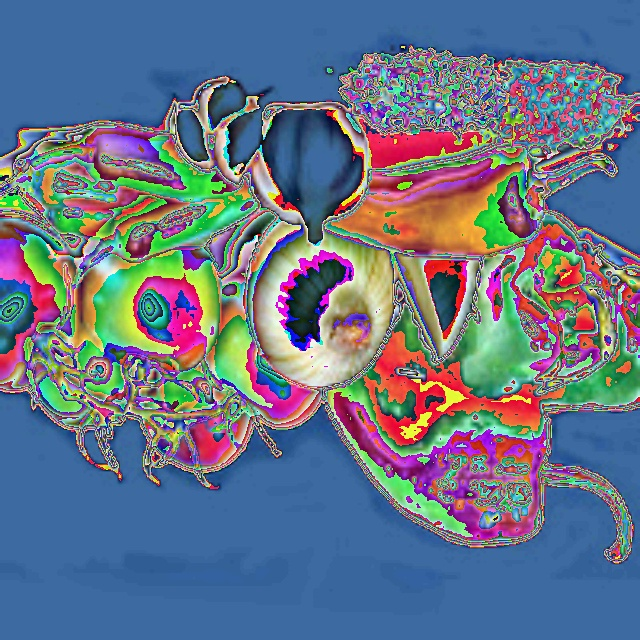background: (0, 77, 640, 563)
